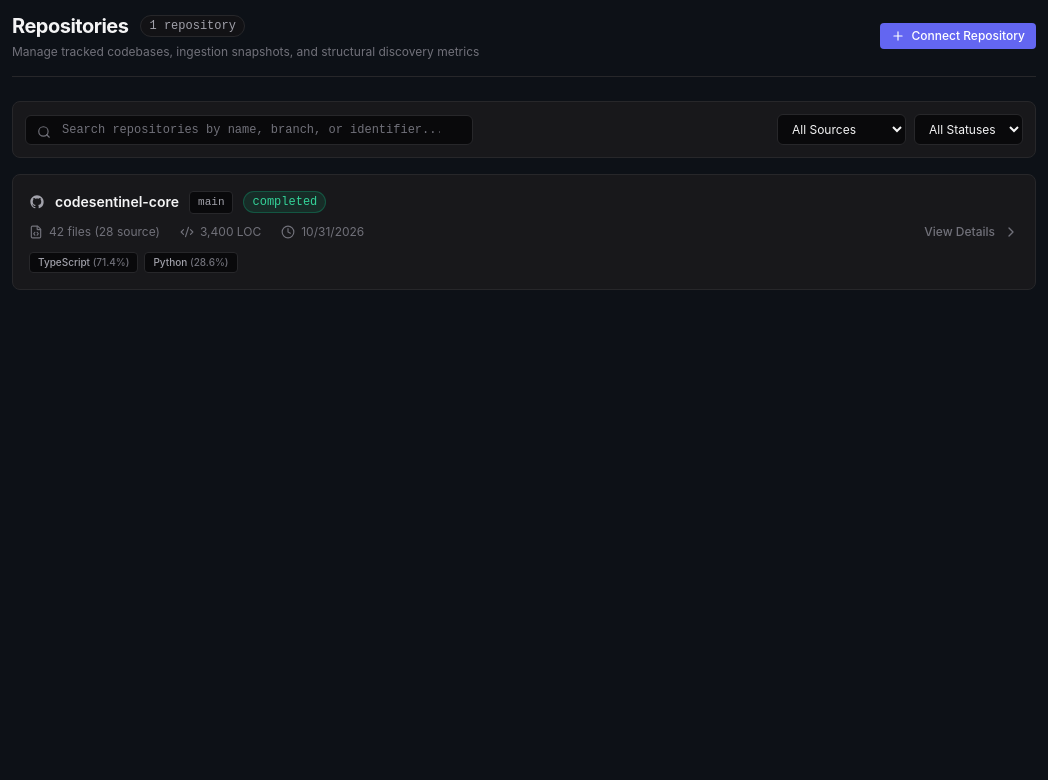
it: RepositoriesPage Component › navigates to detail view when repository is clicked
The image size is (1048, 780).
Click the text "codesentinel-core". click: x=117, y=202
box: [55, 192, 179, 212]
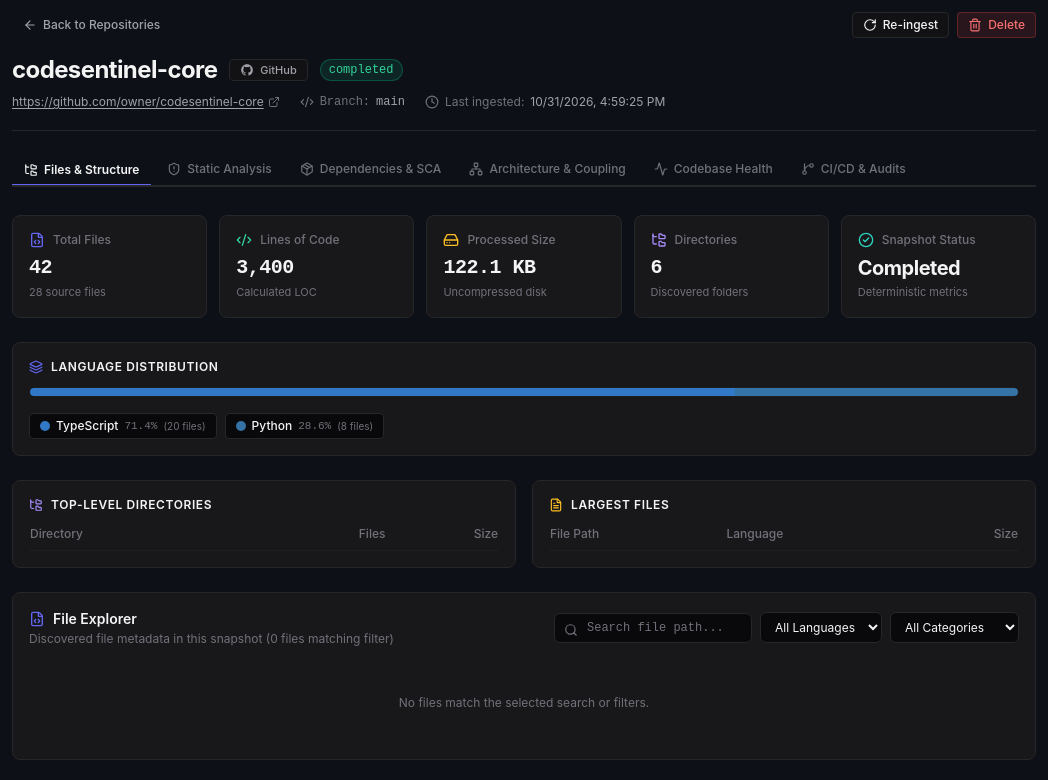
Now the text "Back to Repositories" is shown, box [43, 17, 160, 33]
Now the heading "File Explorer" is shown, box [29, 610, 137, 626]
